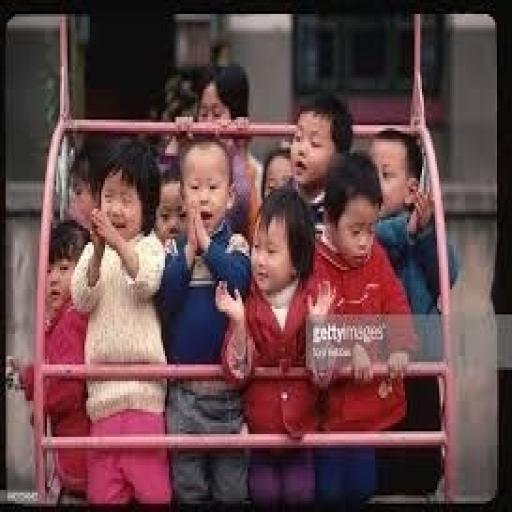clapping: (68, 134, 174, 509), (194, 218, 364, 442), (337, 115, 467, 397), (152, 125, 255, 408)
